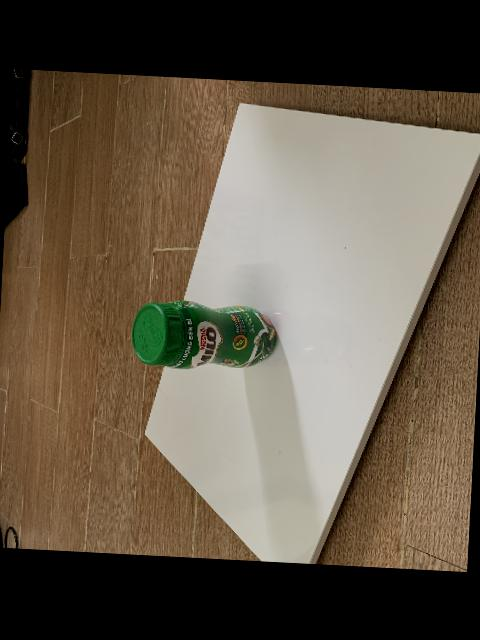milo: (132, 299, 276, 369)
